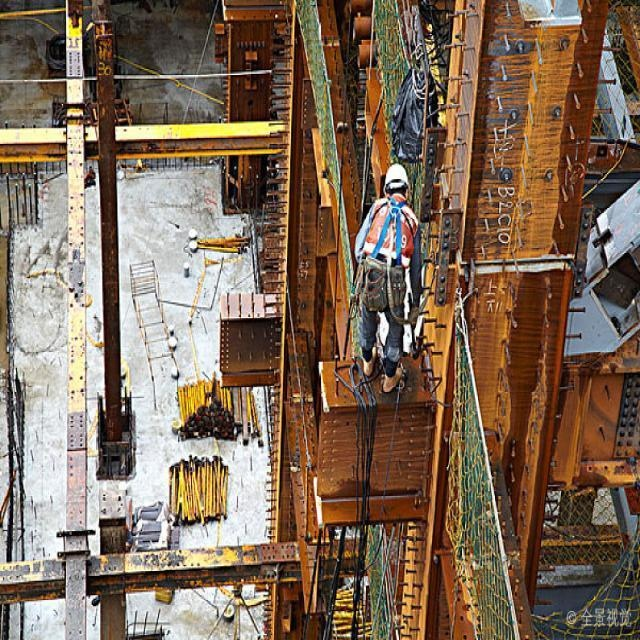Arnes_seguridad: (365, 188, 414, 272)
